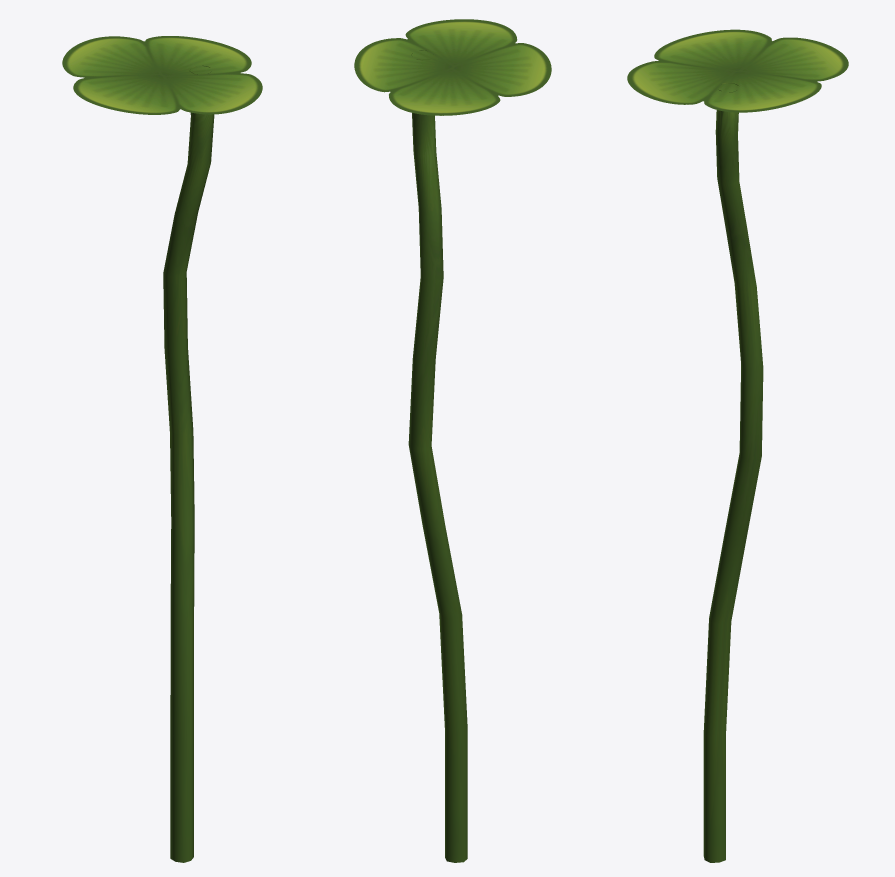
The model's file is LillypadBob.fbx.
3 renders of one model, left to right at view 1: azimuth 30°, elevation 25°; view 2: azimuth 150°, elevation 25°; view 3: azimuth 270°, elevation 25°, orthographic. The views are drawn at different scales.
Visible parts, largest first — view 1: LillypadBase, RoofTile; view 2: LillypadBase, RoofTile; view 3: LillypadBase, RoofTile.
Boxes of the visible parts, bbox=[...] form: LillypadBase: bbox=[163, 65, 214, 862]; RoofTile: bbox=[62, 36, 262, 114]; LillypadBase: bbox=[408, 50, 467, 862]; RoofTile: bbox=[354, 19, 551, 115]; LillypadBase: bbox=[703, 83, 763, 862]; RoofTile: bbox=[627, 29, 848, 112].
Bounding box in the file's own units: 0.97 × 3.1 × 1.02.
1 material, 1 textured.
